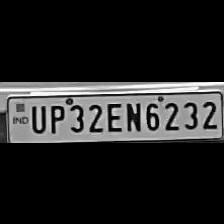2: (198, 96, 216, 130), (161, 97, 179, 130), (85, 100, 103, 132)
3: (66, 100, 86, 132), (180, 97, 198, 129)
6: (142, 98, 160, 130)
E: (104, 98, 122, 132)
N: (122, 98, 142, 132)
P: (46, 100, 64, 134)
U: (27, 100, 45, 134)
